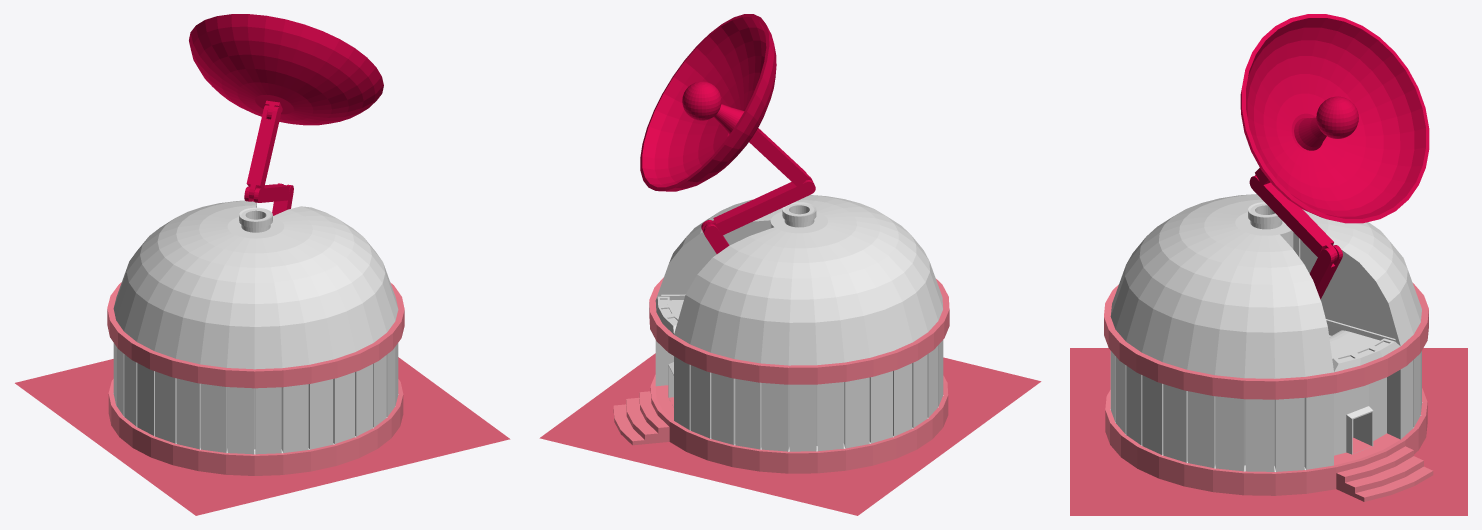
File: antenna_pink.fbx
3 renders of one model, left to right at view 1: azimuth 30°, elevation 25°; view 2: azimuth 150°, elevation 25°; view 3: azimuth 270°, elevation 25°, orthographic. The views are drawn at different scales.
Parts seen in each view (by area): view 1: Cylinder.001, Plane, Sphere, Cube.005, Cube.004; view 2: Cylinder.001, Plane, Sphere, Cube.004, Sphere.002, Cube.005; view 3: Cylinder.001, Sphere, Plane, Cube.004, Sphere.002, Cube.003.
Part boxes in pixels (bbox=[...]): Cylinder.001: bbox=[107, 200, 404, 475]; Plane: bbox=[15, 357, 510, 515]; Sphere: bbox=[189, 14, 383, 125]; Cube.005: bbox=[246, 105, 281, 199]; Cube.004: bbox=[244, 184, 289, 202]; Cylinder.001: bbox=[613, 195, 949, 473]; Plane: bbox=[539, 353, 1041, 515]; Sphere: bbox=[640, 14, 776, 191]; Cube.004: bbox=[704, 178, 815, 235]; Sphere.002: bbox=[682, 81, 721, 120]; Cube.005: bbox=[749, 128, 812, 187]; Cylinder.001: bbox=[1104, 194, 1433, 501]; Sphere: bbox=[1240, 14, 1429, 223]; Plane: bbox=[1070, 348, 1467, 515]; Cube.004: bbox=[1249, 175, 1337, 261]; Sphere.002: bbox=[1316, 96, 1358, 138]; Cube.003: bbox=[1309, 245, 1342, 299].
Bounding box in the file's own units: 1000 × 1172 × 1000.
